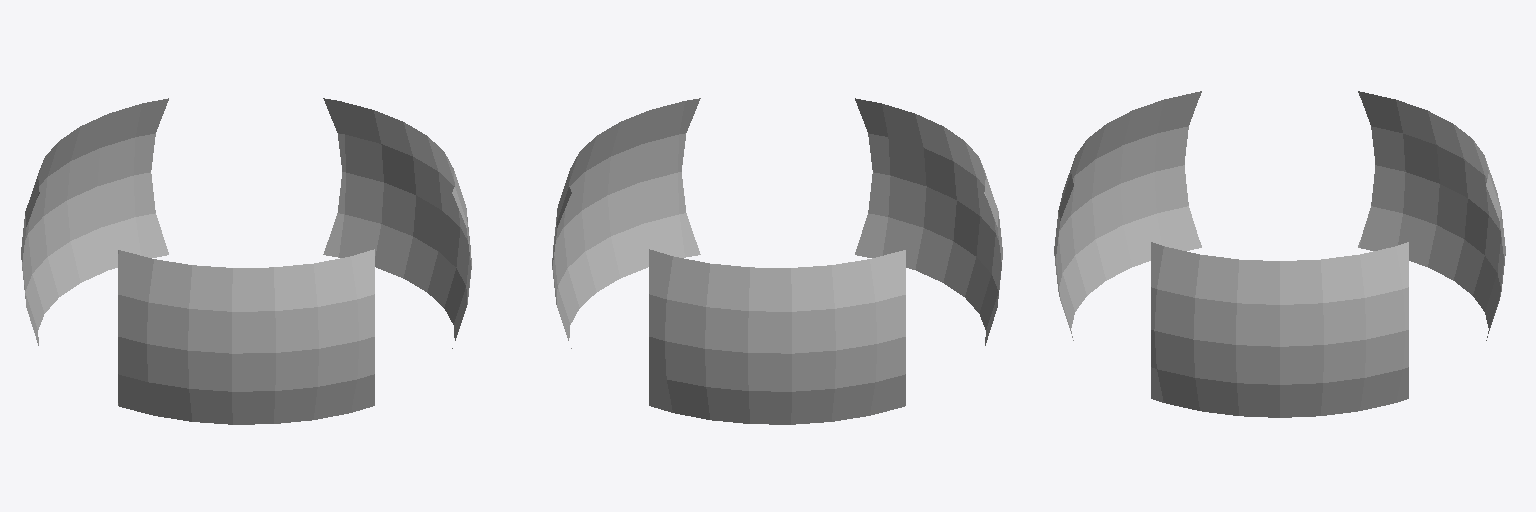
File: KDK_MegaDroid_Shield.obj
3 views of the same model, side by side, from view 1: azimuth 30°, elevation 25°; view 2: azimuth 150°, elevation 25°; view 3: azimuth 270°, elevation 25° (orthographic).
Parts seen in each view (by area): view 1: _KDK_Shield_Mega_Droid_Sphere; view 2: _KDK_Shield_Mega_Droid_Sphere; view 3: _KDK_Shield_Mega_Droid_Sphere.
Boxes of the visible parts, x1=… form: _KDK_Shield_Mega_Droid_Sphere: x1=21, y1=98, x2=471, y2=424; _KDK_Shield_Mega_Droid_Sphere: x1=552, y1=98, x2=1002, y2=424; _KDK_Shield_Mega_Droid_Sphere: x1=1054, y1=91, x2=1505, y2=417.
Bounding box in the file's own units: 1.9 × 0.7654 × 2.